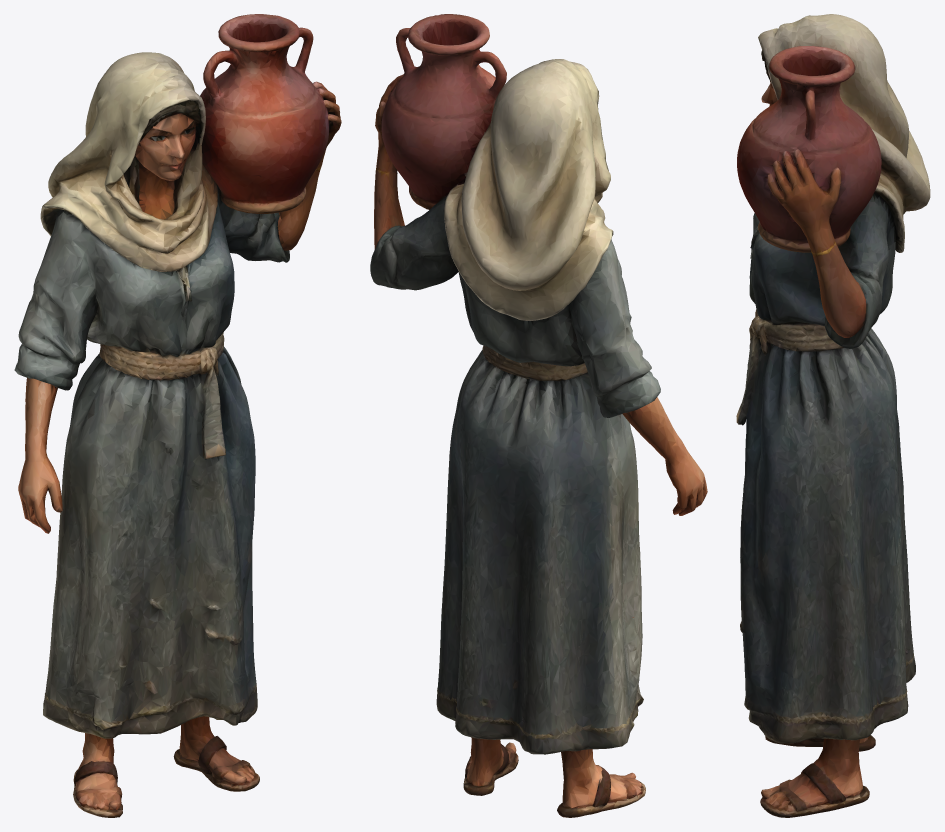
File: donna.glb
The picture shows the model from 3 angles, left to right: view 1: azimuth 30°, elevation 25°; view 2: azimuth 150°, elevation 25°; view 3: azimuth 270°, elevation 25°; orthographic projection. The views are drawn at different scales.
Parts seen in each view (by area): view 1: geometry_0; view 2: geometry_0; view 3: geometry_0.
Boxes of the visible parts, box(x1,y1,x2,y2) form: geometry_0: box(14, 14, 341, 817); geometry_0: box(370, 14, 707, 817); geometry_0: box(736, 14, 930, 817).
Bounding box in the file's own units: 0.4396 × 0.9795 × 0.2248.
1 material, 1 textured.
